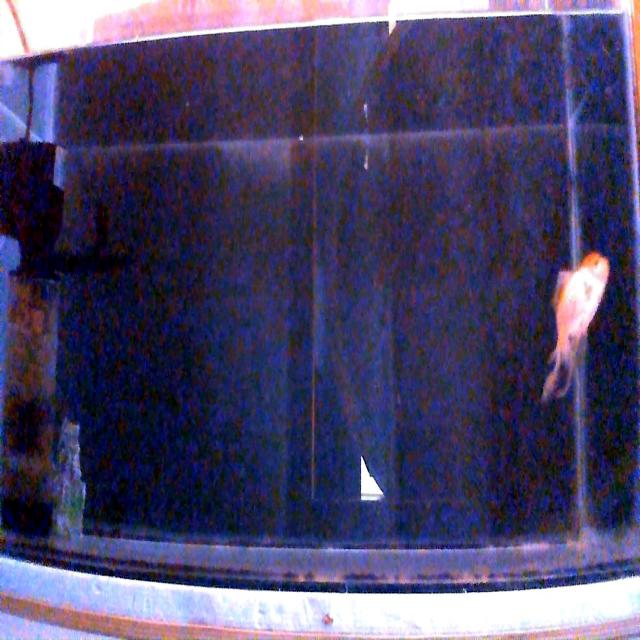fish: (539, 250, 610, 404)
